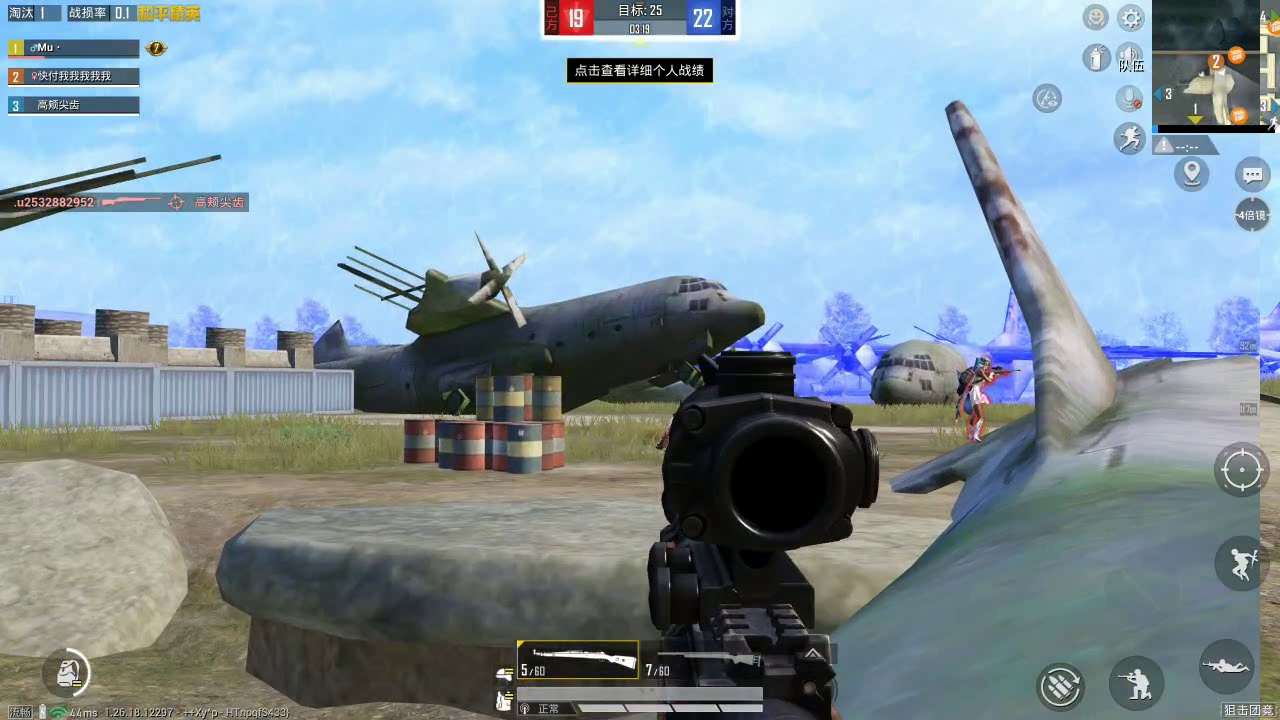enemy: (955, 355, 999, 442)
